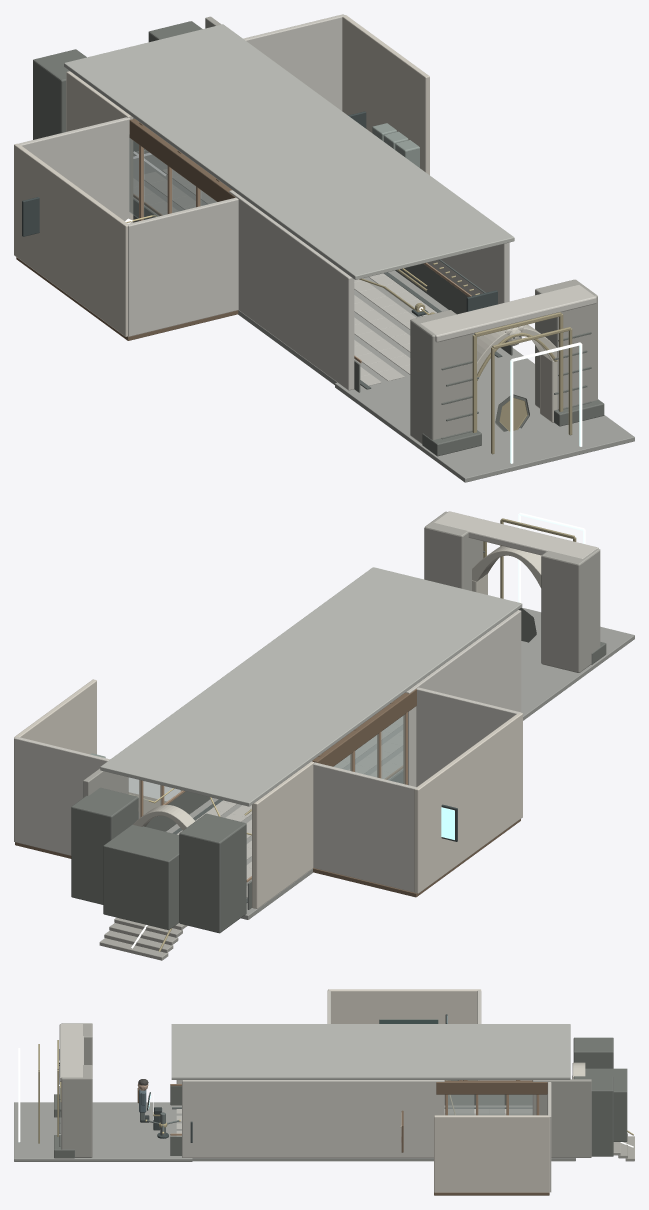
File: school-passage.glb
3 views of the same model, one above another, from view 1: azimuth 30°, elevation 25°; view 2: azimuth 150°, elevation 25°; view 3: azimuth 270°, elevation 25° (orthographic). The views are drawn at different scales.
Parts seen in each view (by area): view 1: EXPORT_School_Static_Lime repair patch, EXPORT_School_Static_Lime plaster, EXPORT_School_Static_Occupied plaster, EXPORT_School_Static_Worn civic terrazzo, EXPORT_School_Static_Carpathian limestone, EXPORT_School_Static_School stone shadow, EXPORT_School_Static_Aged ceramic tile, EXPORT_School_Static_Oxidized brass, EXPORT_School_Static_Smoked school glass, EXPORT_School_Static_Dark civic oak, EXPORT_School_Static_Worn limestone edge, EXPORT_School_Static_Aegis cyan signal (+3 smaller); view 2: EXPORT_School_Static_Lime repair patch, EXPORT_School_Static_Lime plaster, EXPORT_School_Static_Occupied plaster, EXPORT_School_Static_School stone shadow, EXPORT_School_Static_Carpathian limestone, EXPORT_School_Static_Worn civic terrazzo, EXPORT_School_Static_Dark civic oak, EXPORT_School_Static_Smoked school glass, EXPORT_School_Static_Aged ceramic tile, EXPORT_School_Static_Worn limestone edge, EXPORT_School_Static_Handled oak edge, EXPORT_School_Static_Frosted office glass (+1 smaller); view 3: EXPORT_School_Static_Lime repair patch, EXPORT_School_Static_Lime plaster, EXPORT_School_Static_Occupied plaster, EXPORT_School_Static_Worn civic terrazzo, EXPORT_School_Static_Carpathian limestone, EXPORT_School_Static_School stone shadow, EXPORT_School_Static_Dark civic oak, EXPORT_School_Static_Frosted office glass, EXPORT_School_Static_Aged ceramic tile, EXPORT_School_Static_Oxidized brass, EXPORT_School_Static_Handled oak edge.
Boxes of the visible parts, bbox=[...] form: EXPORT_School_Static_Lime repair patch: bbox=[64, 24, 514, 279]; EXPORT_School_Static_Lime plaster: bbox=[18, 14, 596, 390]; EXPORT_School_Static_Occupied plaster: bbox=[14, 15, 517, 344]; EXPORT_School_Static_Worn civic terrazzo: bbox=[133, 155, 634, 482]; EXPORT_School_Static_Carpathian limestone: bbox=[133, 16, 597, 443]; EXPORT_School_Static_School stone shadow: bbox=[33, 21, 604, 456]; EXPORT_School_Static_Aged ceramic tile: bbox=[133, 169, 437, 385]; EXPORT_School_Static_Oxidized brass: bbox=[397, 262, 572, 454]; EXPORT_School_Static_Smoked school glass: bbox=[129, 134, 216, 219]; EXPORT_School_Static_Dark civic oak: bbox=[16, 119, 238, 340]; EXPORT_School_Static_Worn limestone edge: bbox=[477, 324, 557, 430]; EXPORT_School_Static_Aegis cyan signal: bbox=[510, 342, 582, 463]; EXPORT_School_Static_Lime repair patch: bbox=[100, 567, 522, 806]; EXPORT_School_Static_Lime plaster: bbox=[14, 511, 598, 892]; EXPORT_School_Static_Occupied plaster: bbox=[14, 679, 522, 908]; EXPORT_School_Static_School stone shadow: bbox=[71, 551, 606, 933]; EXPORT_School_Static_Carpathian limestone: bbox=[83, 511, 600, 960]; EXPORT_School_Static_Worn civic terrazzo: bbox=[166, 607, 634, 919]; EXPORT_School_Static_Dark civic oak: bbox=[15, 689, 520, 897]; EXPORT_School_Static_Smoked school glass: bbox=[333, 714, 405, 783]; EXPORT_School_Static_Aged ceramic tile: bbox=[177, 716, 402, 897]; EXPORT_School_Static_Worn limestone edge: bbox=[133, 546, 541, 830]; EXPORT_School_Static_Handled oak edge: bbox=[139, 712, 407, 882]; EXPORT_School_Static_Frosted office glass: bbox=[128, 777, 181, 818]; EXPORT_School_Static_Lime repair patch: bbox=[171, 1024, 570, 1079]; EXPORT_School_Static_Lime plaster: bbox=[59, 990, 551, 1192]; EXPORT_School_Static_Occupied plaster: bbox=[328, 989, 549, 1192]; EXPORT_School_Static_Worn civic terrazzo: bbox=[14, 1102, 575, 1161]; EXPORT_School_Static_Carpathian limestone: bbox=[61, 1023, 634, 1161]; EXPORT_School_Static_School stone shadow: bbox=[54, 1037, 627, 1158]; EXPORT_School_Static_Dark civic oak: bbox=[434, 1080, 549, 1195]; EXPORT_School_Static_Frosted office glass: bbox=[448, 1094, 532, 1115]; EXPORT_School_Static_Aged ceramic tile: bbox=[176, 1109, 532, 1136]; EXPORT_School_Static_Oxidized brass: bbox=[38, 1040, 633, 1143]; EXPORT_School_Static_Handled oak edge: bbox=[170, 1080, 539, 1135].
Bounding box in the file's own units: 30 × 10.47 × 59.13.
